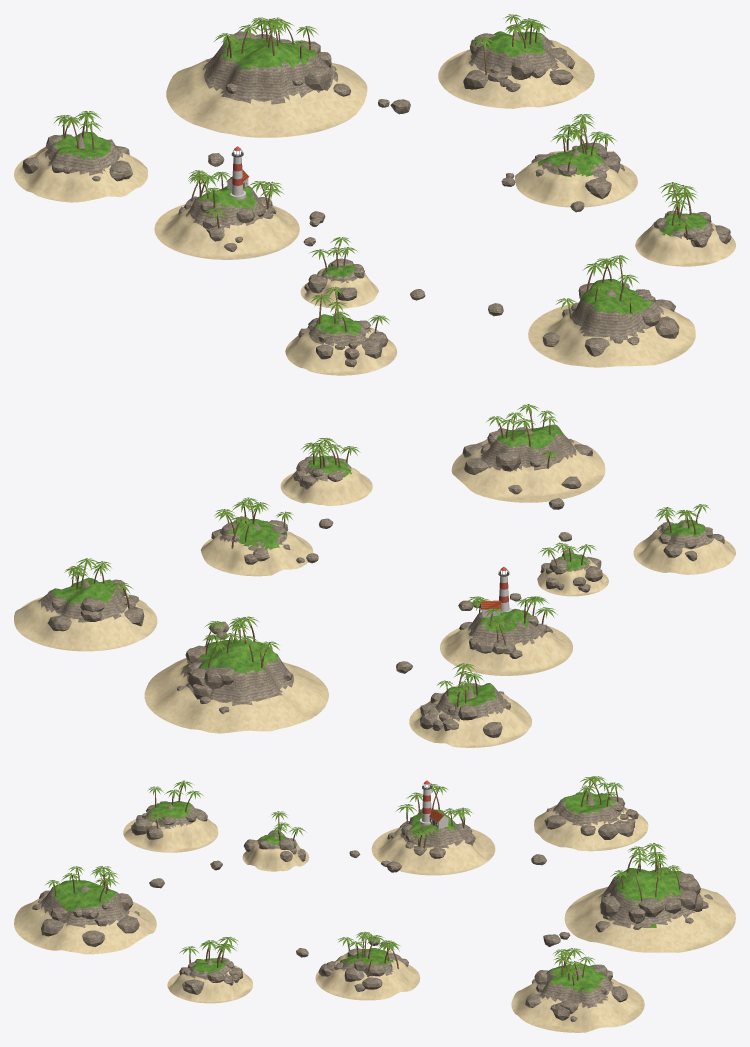
File: arena.gltf
3 views of the same model, one above another, from view 1: azimuth 30°, elevation 25°; view 2: azimuth 150°, elevation 25°; view 3: azimuth 270°, elevation 25° (orthographic). The views are drawn at different scales.
Parts seen in each view (by area): view 1: isle_far_n, isle_far_s, isle_far_ne, isle_lighthouse, isle_far_nw, isle_east, isle_south_w, isle_south_e, isle_west_s; view 2: isle_far_n, isle_far_s, isle_far_ne, isle_lighthouse, isle_far_nw, isle_east, isle_south_w, isle_south_e, isle_west_s; view 3: isle_far_n, isle_far_s, isle_far_ne, isle_lighthouse, isle_far_nw, isle_south_w, isle_east, isle_south_e, isle_west_s.
Boxes of the visible parts, <box> form: isle_far_n: <box>166,38,367,137</box>; isle_far_s: <box>528,279,695,367</box>; isle_far_ne: <box>438,31,594,108</box>; isle_lighthouse: <box>154,186,299,259</box>; isle_far_nw: <box>14,131,147,202</box>; isle_east: <box>515,142,637,207</box>; isle_south_w: <box>285,314,397,375</box>; isle_south_e: <box>635,213,735,266</box>; isle_west_s: <box>300,265,378,308</box>; isle_far_n: <box>144,640,328,733</box>; isle_far_s: <box>451,424,605,502</box>; isle_far_ne: <box>14,577,157,651</box>; isle_lighthouse: <box>440,609,572,675</box>; isle_far_nw: <box>409,683,531,747</box>; isle_east: <box>200,519,313,576</box>; isle_south_w: <box>633,520,735,574</box>; isle_south_e: <box>280,455,372,505</box>; isle_west_s: <box>537,553,608,596</box>; isle_far_n: <box>564,867,735,952</box>; isle_far_s: <box>14,879,156,954</box>; isle_far_ne: <box>511,963,644,1032</box>; isle_lighthouse: <box>371,809,495,875</box>; isle_far_nw: <box>534,791,648,851</box>; isle_south_w: <box>123,801,218,852</box>; isle_east: <box>315,948,420,1000</box>; isle_south_e: <box>167,958,252,1003</box>; isle_west_s: <box>242,833,309,871</box>.
Bounding box in the file's own units: 166 × 25.8 × 220.
Materials: 12 (11 with a texture image).
